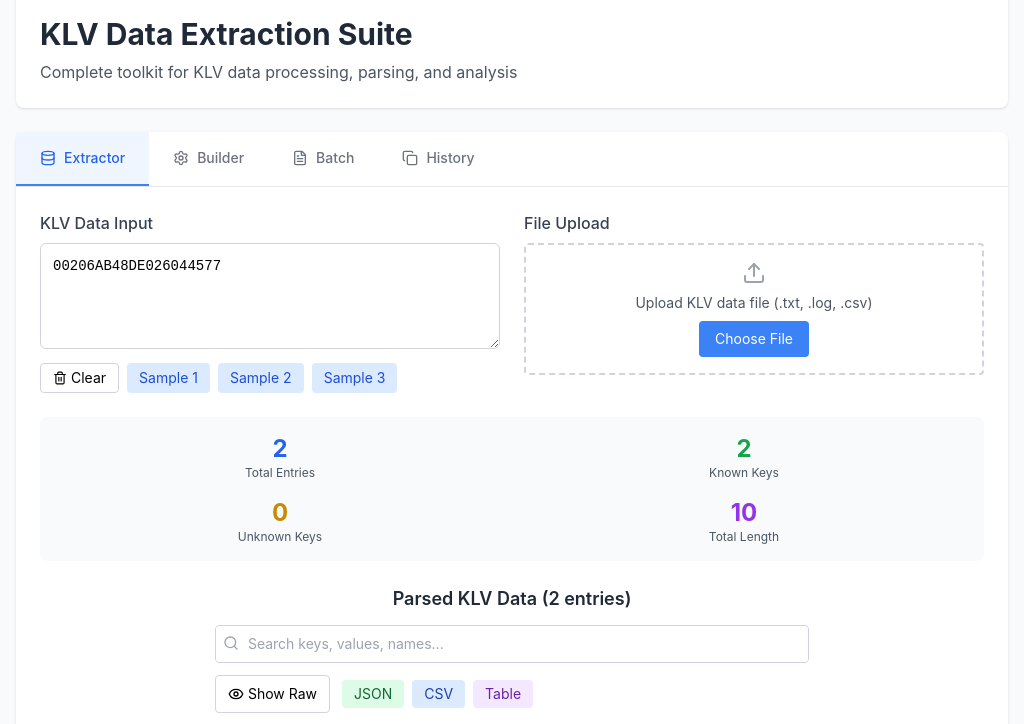
Scenario: App Integration Tests › Raw Data Toggle › should show raw data when toggle is clicked
Step 1. Click the button "Show Raw" → click(272, 694), box [215, 675, 330, 713]
(page scrolled)
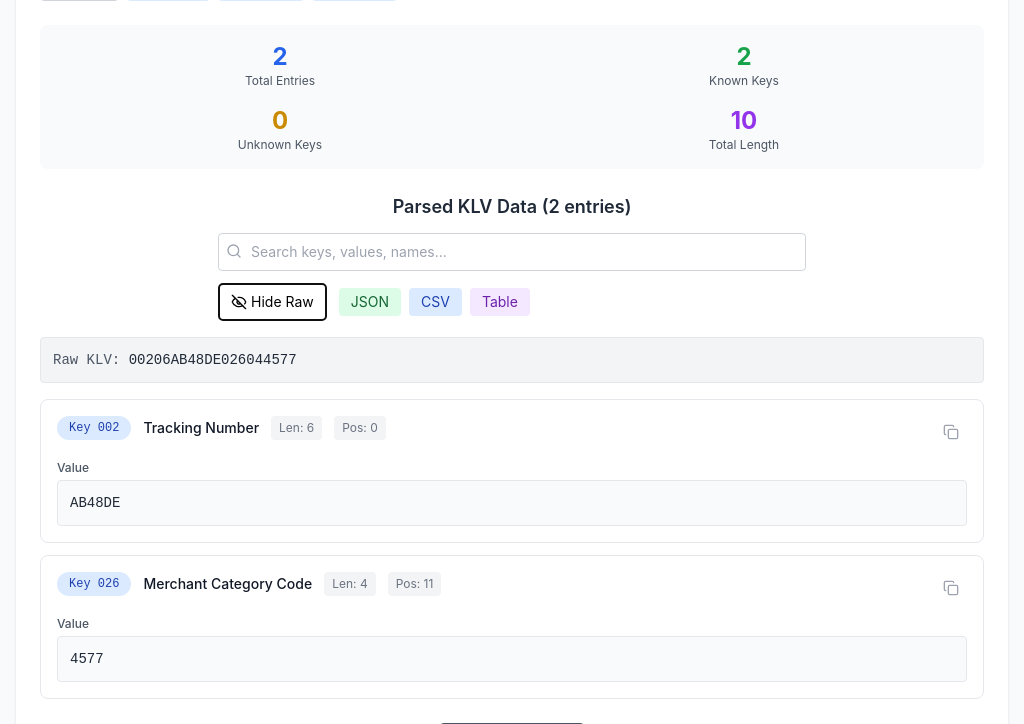
Check: the button "Hide Raw" is shown, box [218, 283, 327, 321]
Check: the text "Raw KLV:" is shown, box [53, 352, 129, 368]
